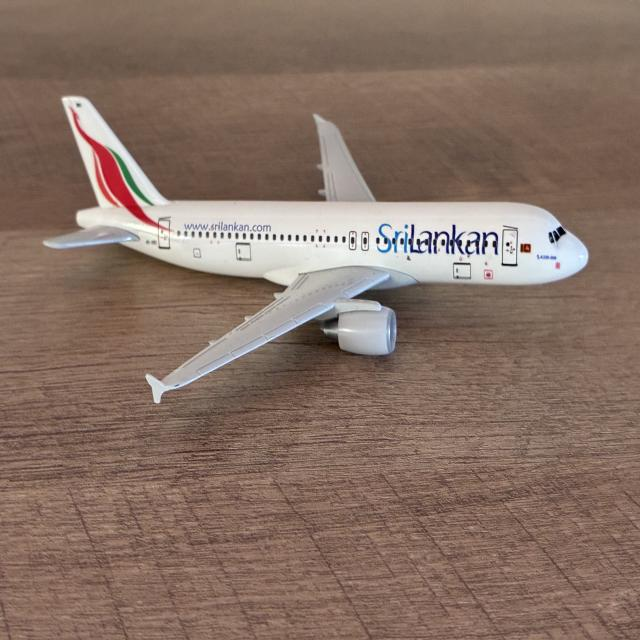air-plane: (44, 96, 588, 403)
